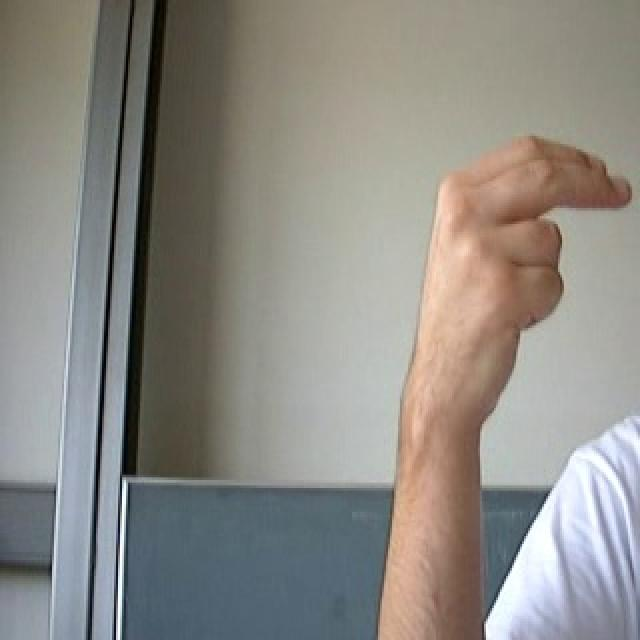H: (380, 104, 640, 421)
